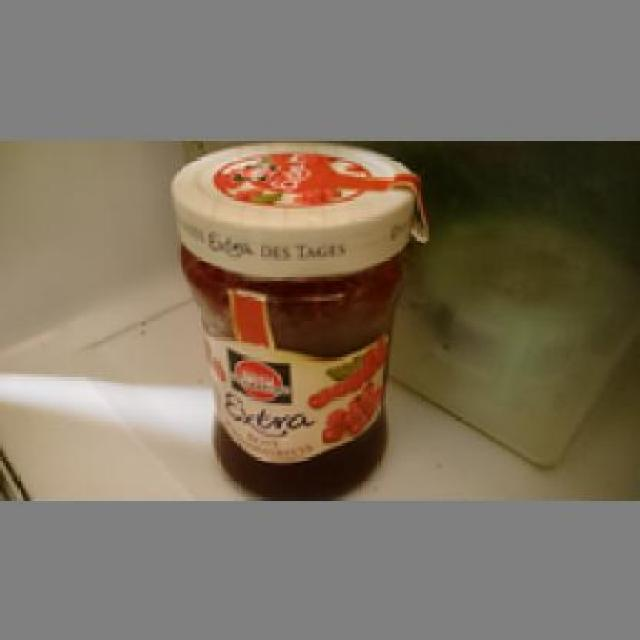Jam: (168, 140, 426, 494)
